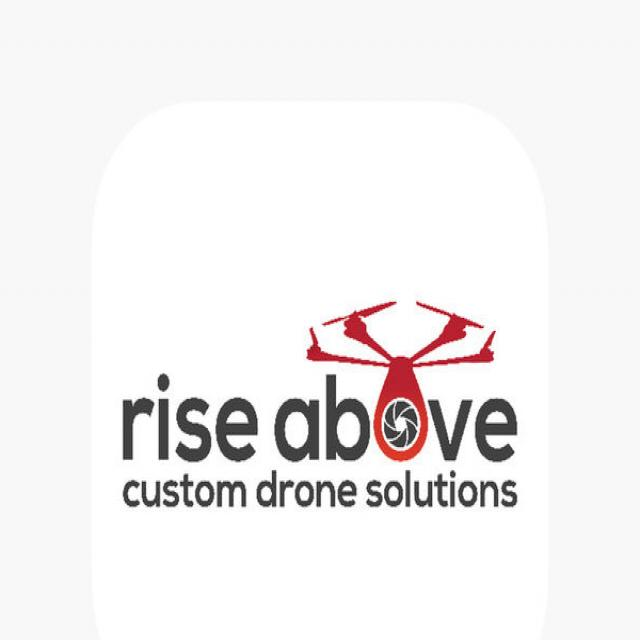drone: (289, 292, 508, 403)
